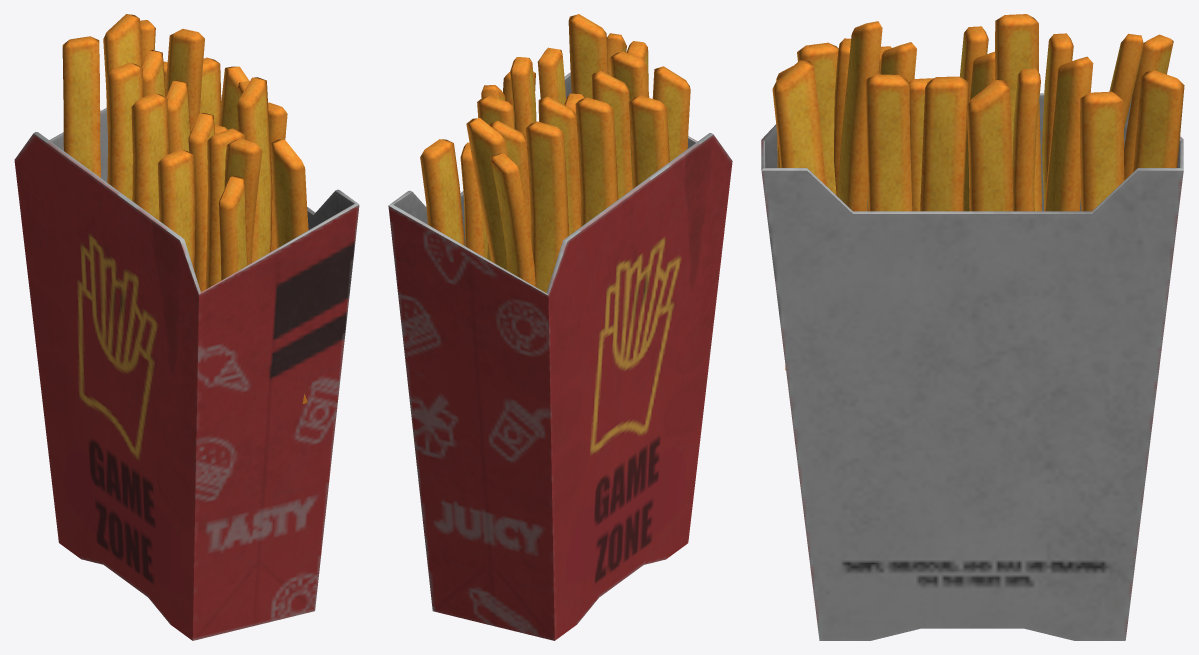
File: SM_FriesPackage_01.fbx
3 renders of one model, left to right at view 1: azimuth 30°, elevation 25°; view 2: azimuth 150°, elevation 25°; view 3: azimuth 270°, elevation 25°, orthographic. The views are drawn at different scales.
Visible parts, largest first — view 1: SM_FriesPackage_01_LOD0; view 2: SM_FriesPackage_01_LOD0; view 3: SM_FriesPackage_01_LOD0.
Boxes of the visible parts, left/top/right/bottom form: SM_FriesPackage_01_LOD0: left=14, top=14, right=359, bottom=640; SM_FriesPackage_01_LOD0: left=388, top=14, right=732, bottom=640; SM_FriesPackage_01_LOD0: left=761, top=14, right=1184, bottom=640.
Size of the model in its own units: 8.47 by 16.91 by 26.56.
Materials: 1 (1 with a texture image).
